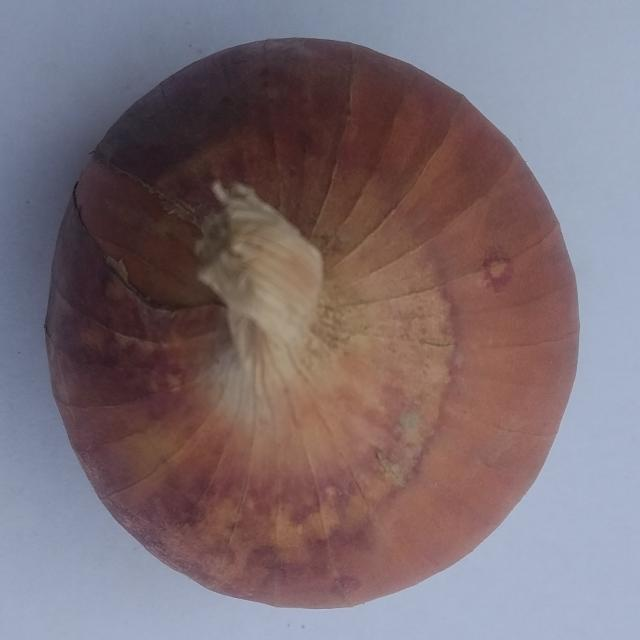onion: (43, 35, 582, 609)
